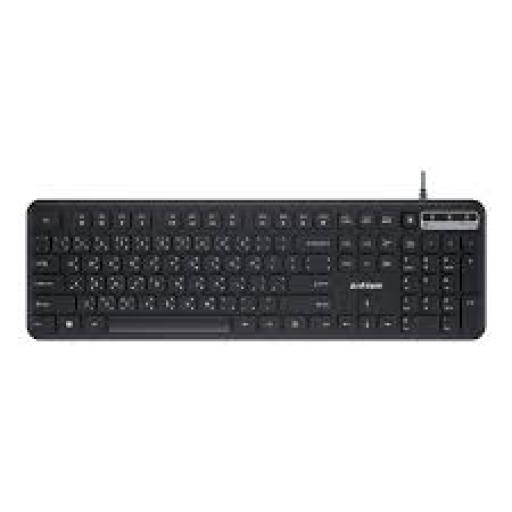keyboard: (25, 200, 485, 337)
